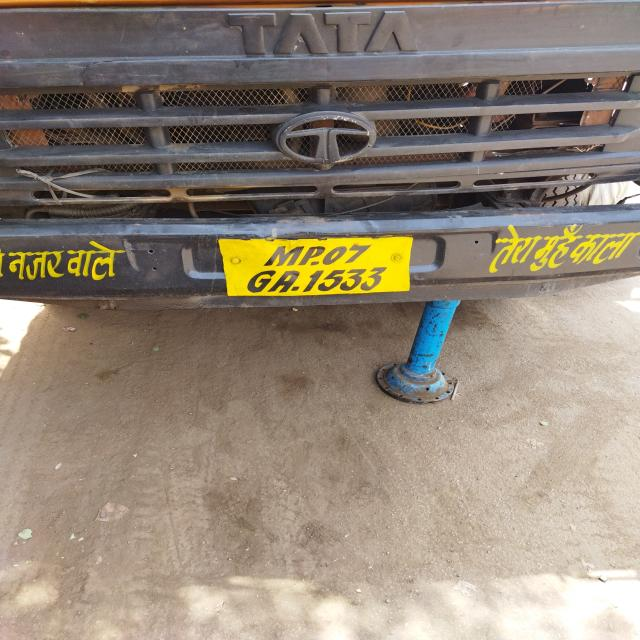number_plate: (216, 236, 413, 299)
